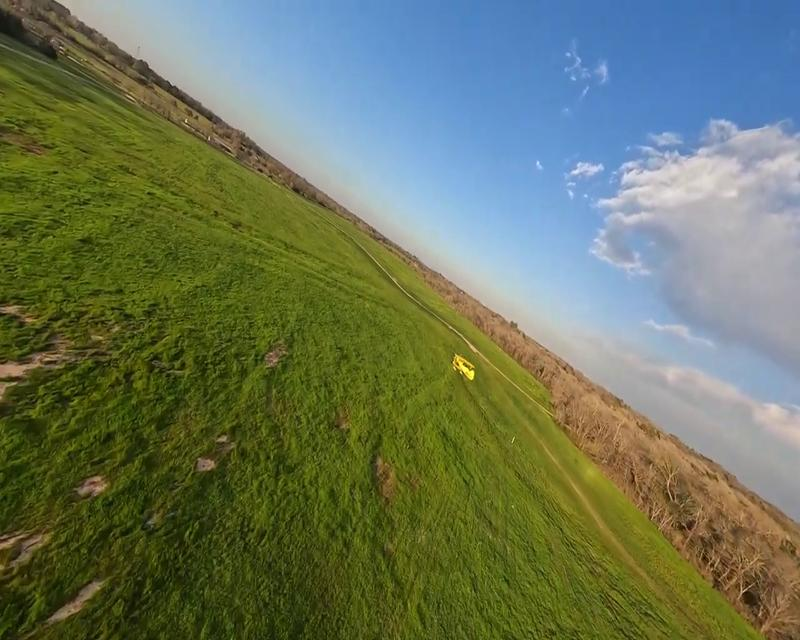UAV: (452, 352, 475, 383)
